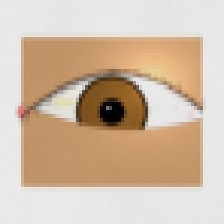pinguecula_lesion: (41, 85, 86, 120)
